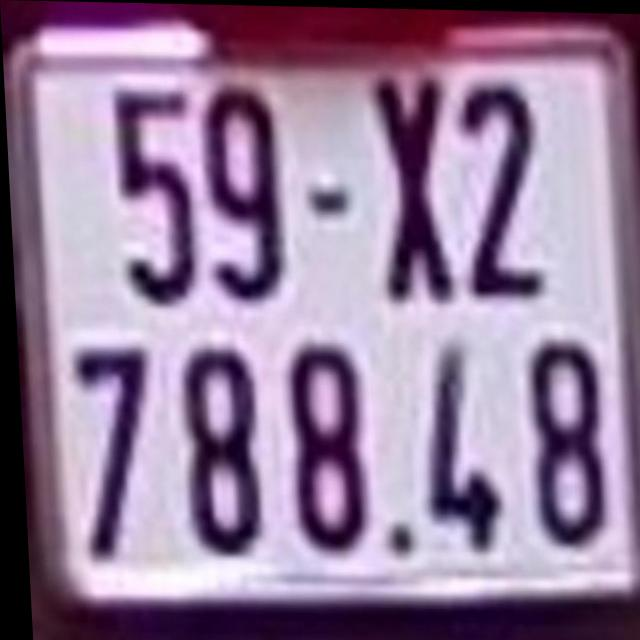2: (455, 76, 550, 298)
4: (413, 332, 505, 557)
5: (109, 84, 196, 307)
7: (66, 339, 154, 555)
8: (280, 333, 373, 551), (174, 347, 266, 554), (521, 331, 605, 547)
9: (197, 85, 285, 294)
X: (373, 69, 455, 298)
